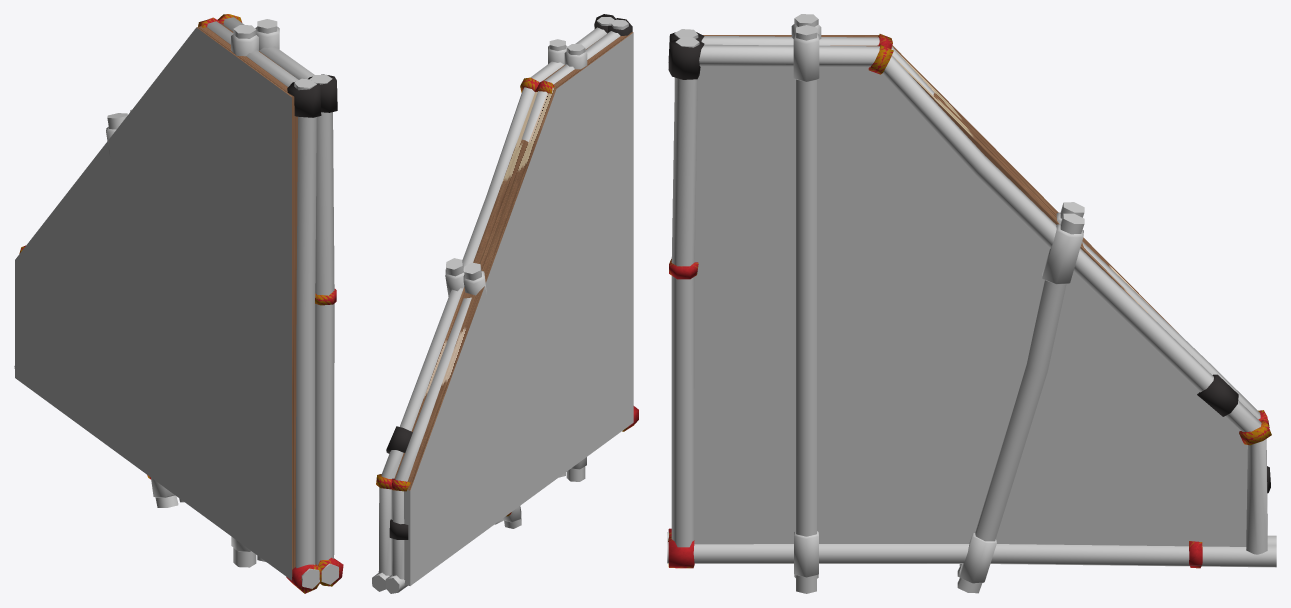
File: builderRoofStubT03.FBX
3 views of the same model, side by side, from view 1: azimuth 30°, elevation 25°; view 2: azimuth 150°, elevation 25°; view 3: azimuth 270°, elevation 25° (orthographic). The views are drawn at different scales.
Visible parts, largest first — view 1: builderRoofStubT03T_COL, builderRoofStubT03T_LOD0; view 2: builderRoofStubT03T_COL, builderRoofStubT03T_LOD0; view 3: builderRoofStubT03T_LOD0, builderRoofStubT03T_COL.
Part boxes in pixels (left/top/right/bottom): builderRoofStubT03T_COL: left=15, top=23, right=297, bottom=580; builderRoofStubT03T_LOD0: left=14, top=14, right=343, bottom=593; builderRoofStubT03T_COL: left=391, top=32, right=633, bottom=585; builderRoofStubT03T_LOD0: left=372, top=14, right=638, bottom=593; builderRoofStubT03T_LOD0: left=667, top=14, right=1276, bottom=593; builderRoofStubT03T_COL: left=703, top=35, right=1178, bottom=333.
Size of what is drawn, in the model's own units: 0.3093 by 3.18 by 3.14.
